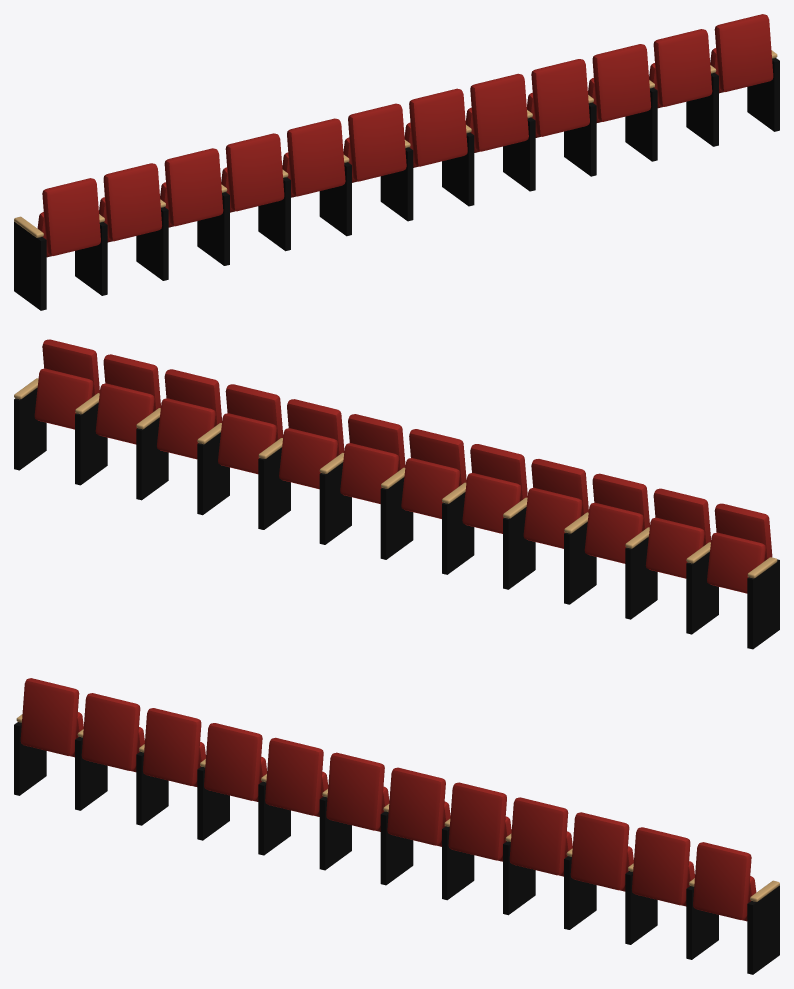
The model's file is venue.seat.row_12.glb.
3 views of the same model, one above another, from view 1: azimuth 30°, elevation 25°; view 2: azimuth 150°, elevation 25°; view 3: azimuth 330°, elevation 25° (orthographic).
Visible parts, largest first — view 1: main__fabric_red, main__plastic_black, main__glulam; view 2: main__fabric_red, main__plastic_black, main__glulam; view 3: main__fabric_red, main__plastic_black, main__glulam.
Part boxes in pixels (left/top/right/bottom): main__fabric_red: left=37, top=14, right=773, bottom=257; main__plastic_black: left=14, top=58, right=779, bottom=310; main__glulam: left=14, top=50, right=777, bottom=237; main__fabric_red: left=34, top=339, right=772, bottom=593; main__plastic_black: left=14, top=388, right=779, bottom=649; main__glulam: left=14, top=378, right=777, bottom=578; main__fabric_red: left=20, top=678, right=756, bottom=921; main__plastic_black: left=14, top=722, right=779, bottom=974; main__glulam: left=16, top=714, right=779, bottom=901.
Size of the model in its own units: 6.67 by 0.9937 by 0.4622.
